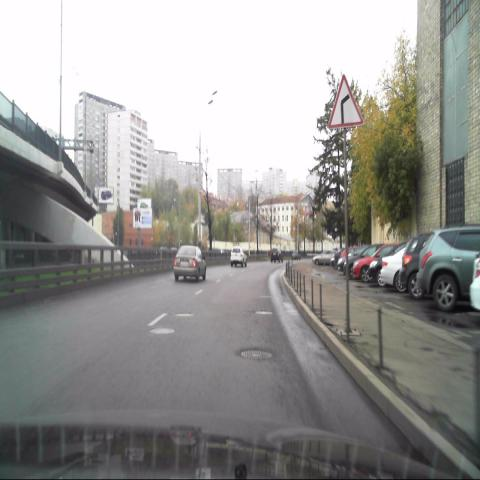1_11: (325, 72, 363, 127)
